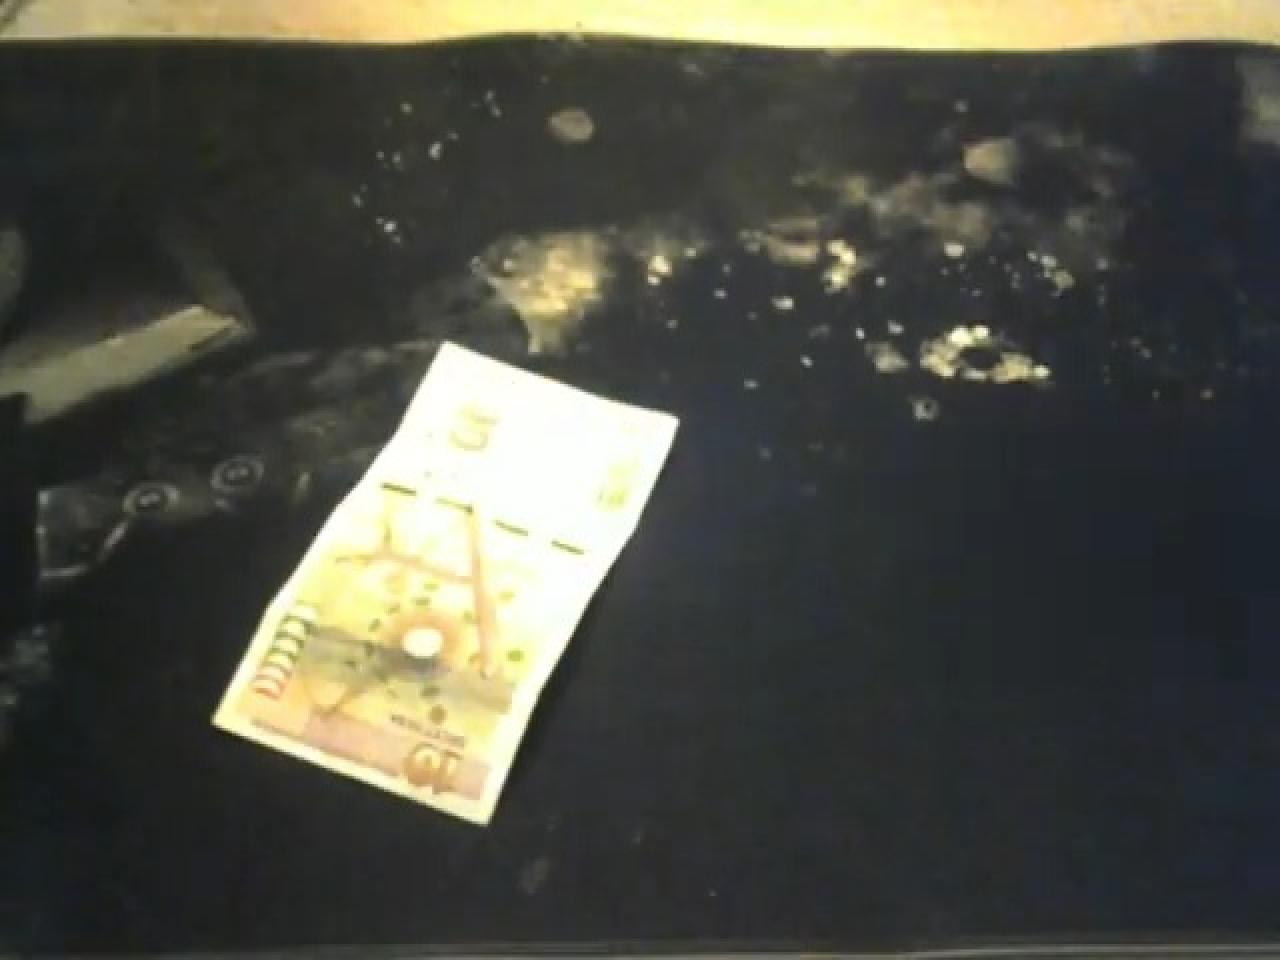10leva: (210, 347, 680, 829)
